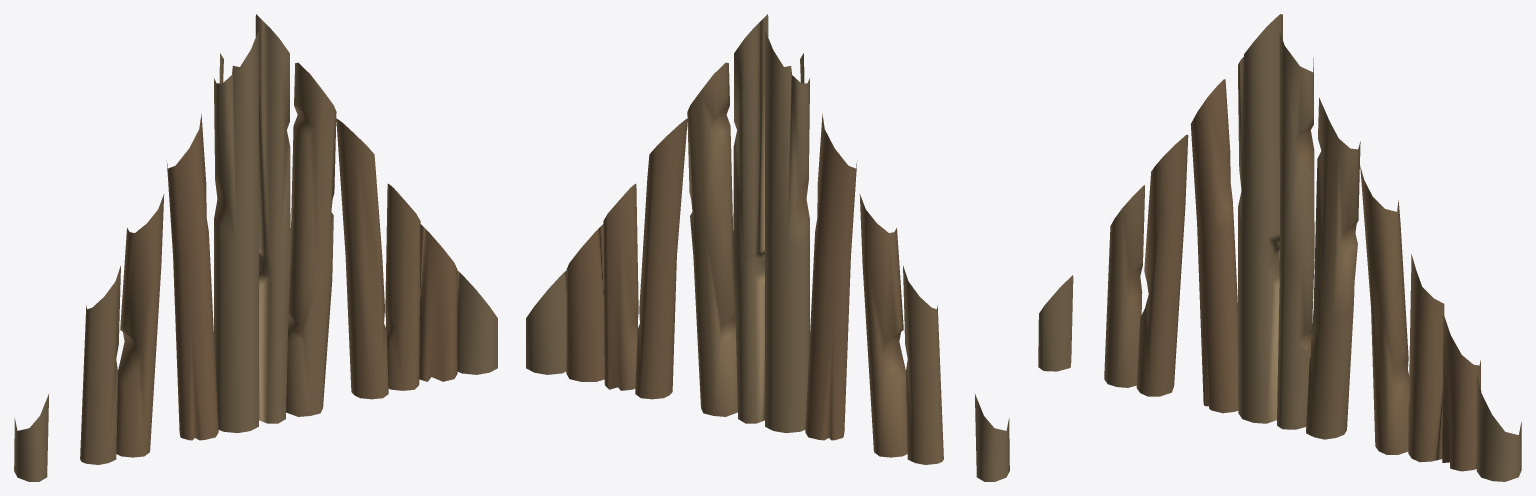
File: rpgpp_av_roof_end_01_6x5_wall_04a.gltf
3 renders of one model, left to right at view 1: azimuth 30°, elevation 25°; view 2: azimuth 150°, elevation 25°; view 3: azimuth 330°, elevation 25°, orthographic.
Parts seen in each view (by area): view 1: rpgpp_av_roof_end_01_6x5_wall_04a; view 2: rpgpp_av_roof_end_01_6x5_wall_04a; view 3: rpgpp_av_roof_end_01_6x5_wall_04a.
Boxes of the visible parts, x1,y1,x2,y2 form: rpgpp_av_roof_end_01_6x5_wall_04a: (14,14,497,481); rpgpp_av_roof_end_01_6x5_wall_04a: (526,14,1009,481); rpgpp_av_roof_end_01_6x5_wall_04a: (1038,14,1521,481).
Bounding box in the file's own units: 0.06 × 0.0487 × 0.00463.
1 material, 1 textured.
